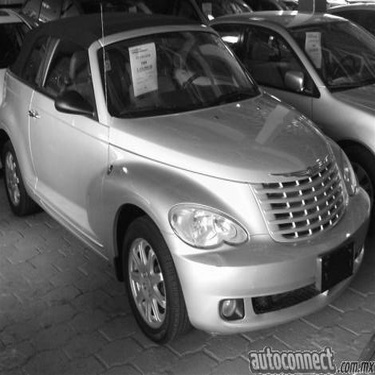car: (1, 13, 371, 347), (207, 8, 372, 212), (1, 4, 41, 115)
